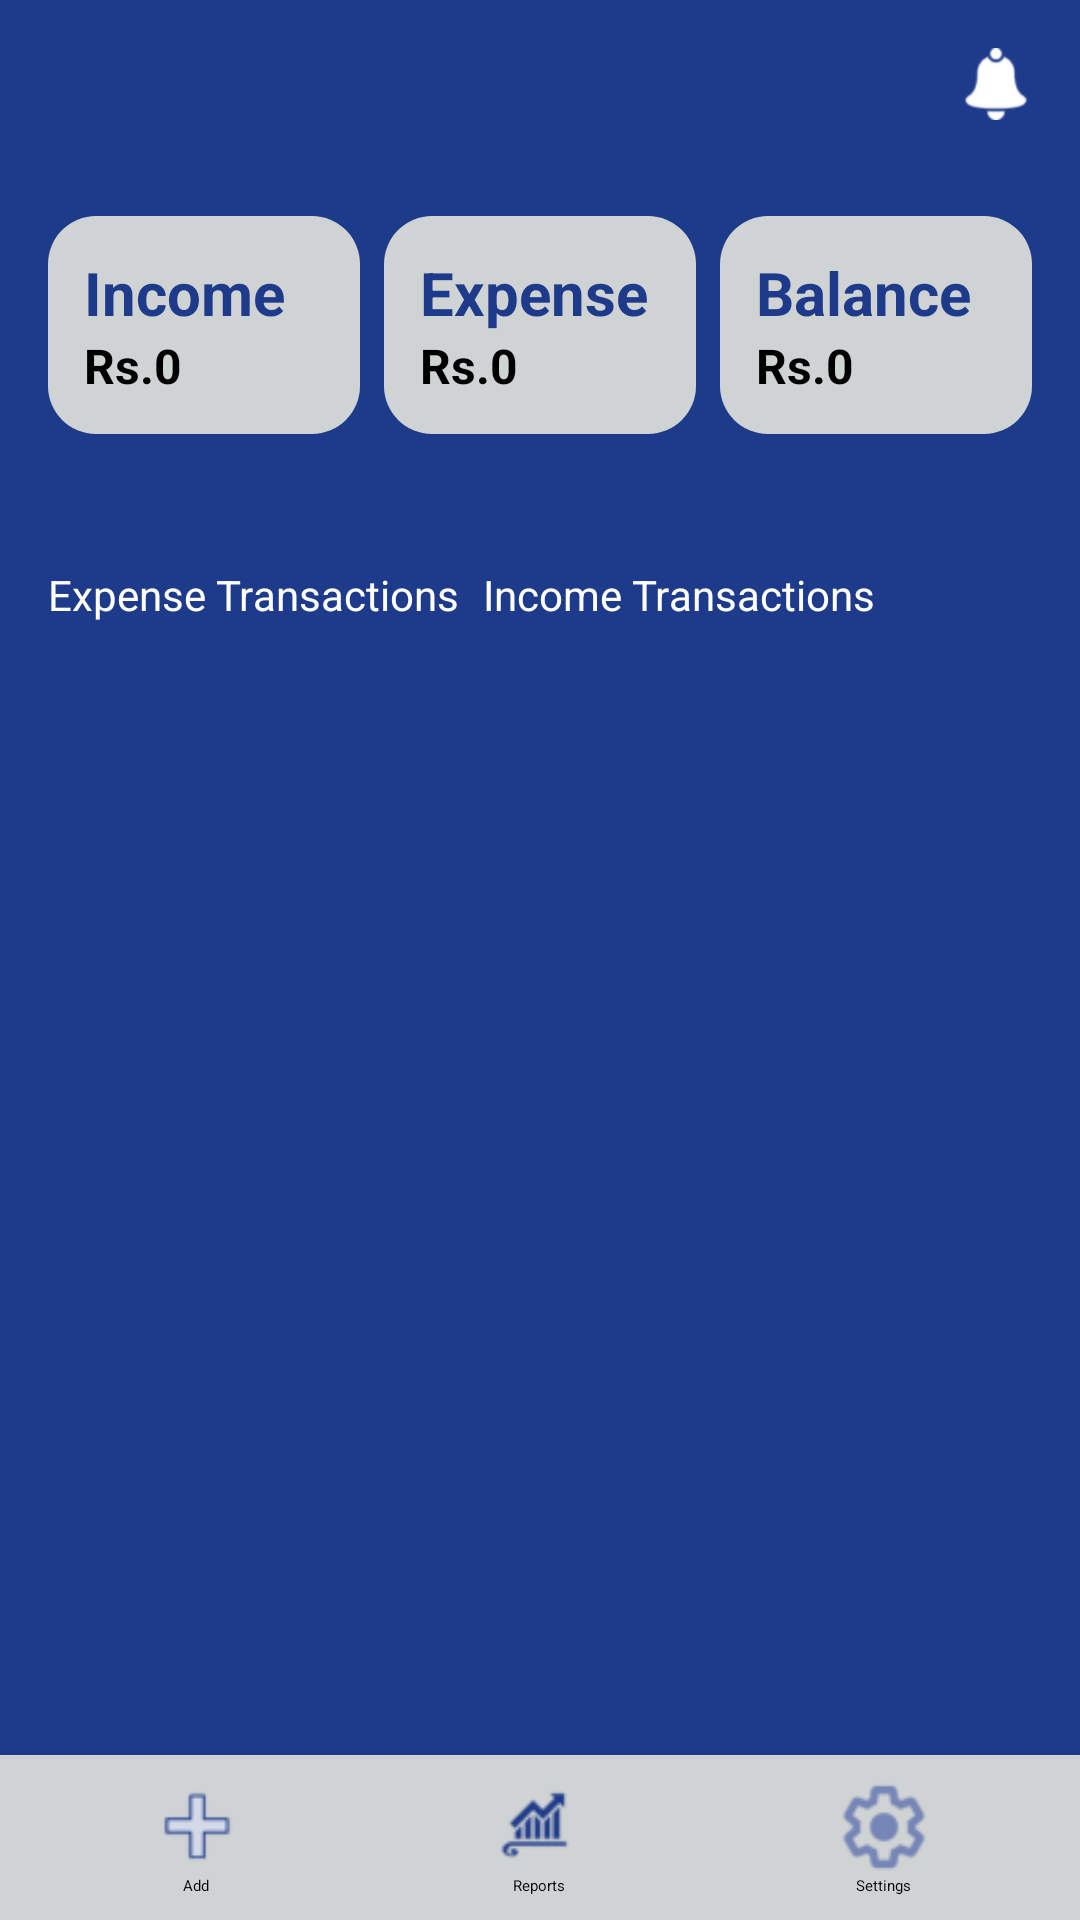

Named icons in this screenshot (1080×1920) and their centers, (x=x, y=y):
bar chart: (x=534, y=1825)
Notification: (x=996, y=84)
